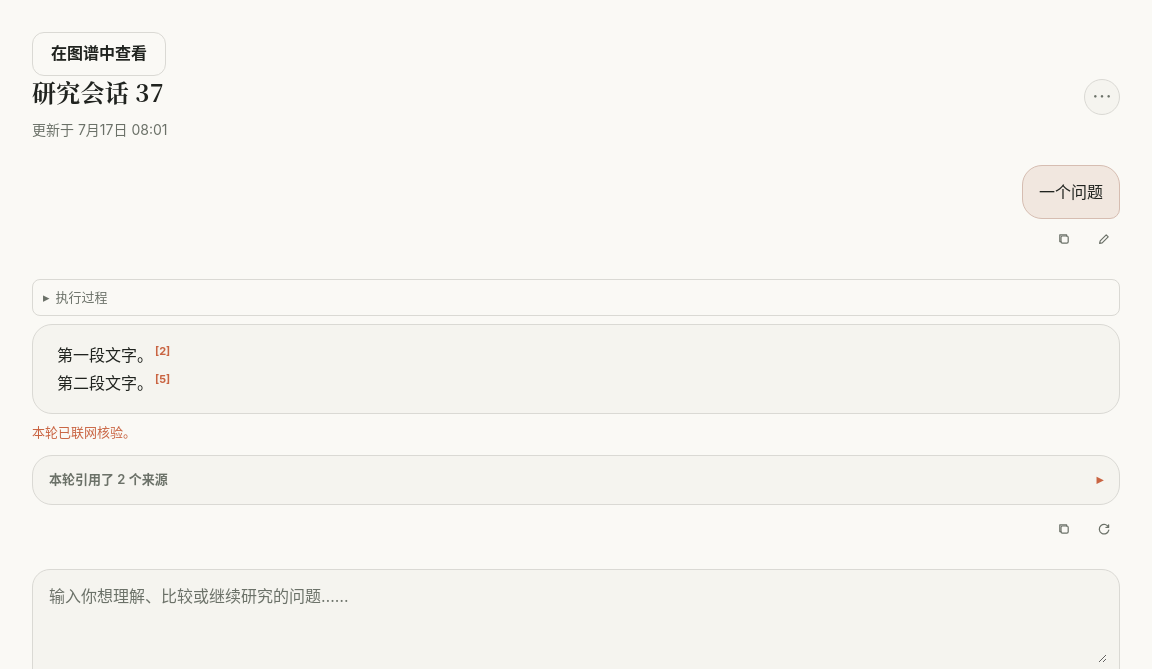
Test: AI 回答分块渲染 › 引用角标按稳定旁路范围渲染，编号与文末列表一致且正文没有控制串
Later steps or results of the test are not shown.
Click the button "本轮引用了 2 个来源 ▸" at (83, 479), box left=49, top=464, right=1103, bottom=496
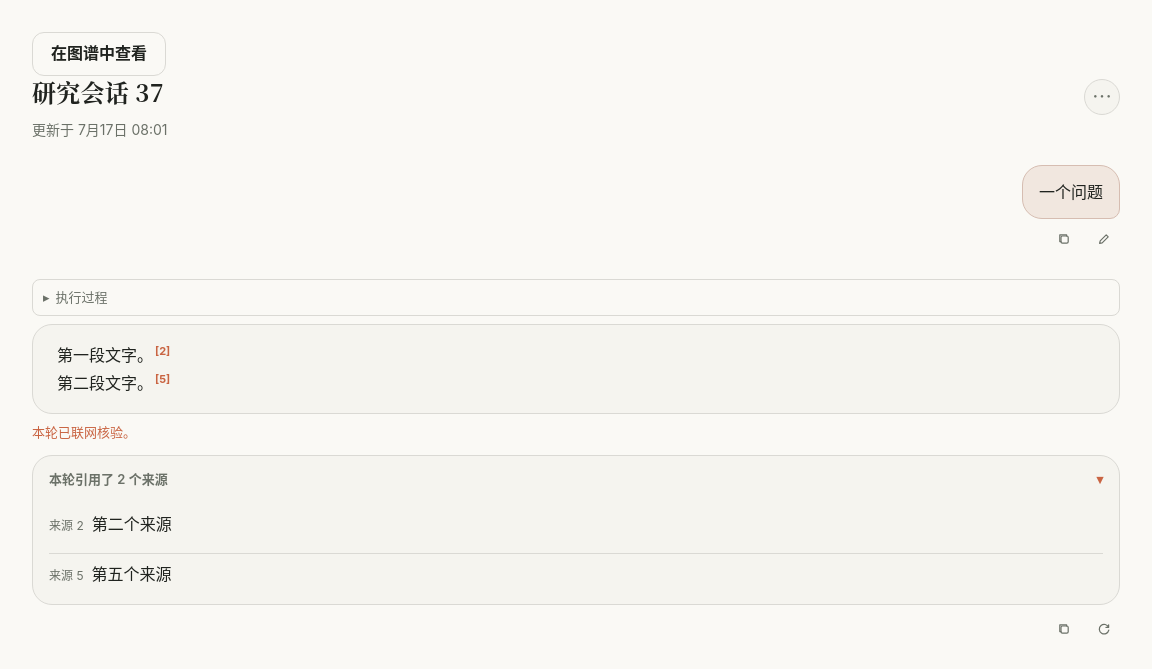
Now the text "第二个来源" is shown, box left=92, top=512, right=172, bottom=537
Now the text "第五个来源" is shown, box left=92, top=562, right=172, bottom=588
